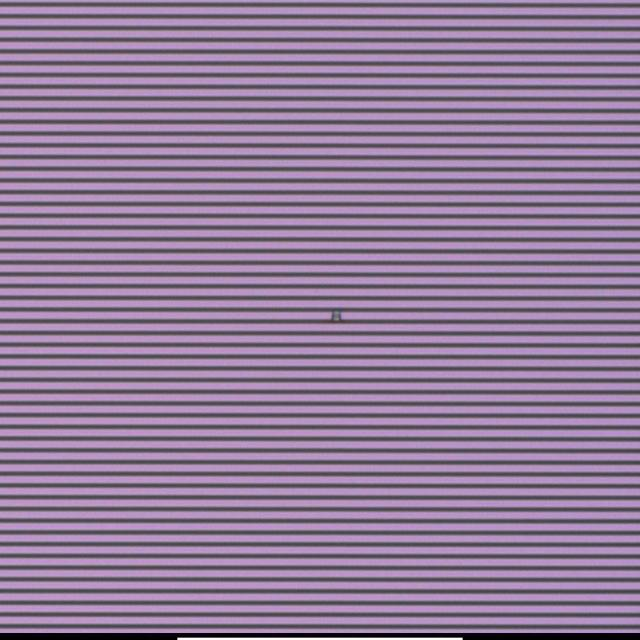03_intrusion: (330, 307, 343, 325)
